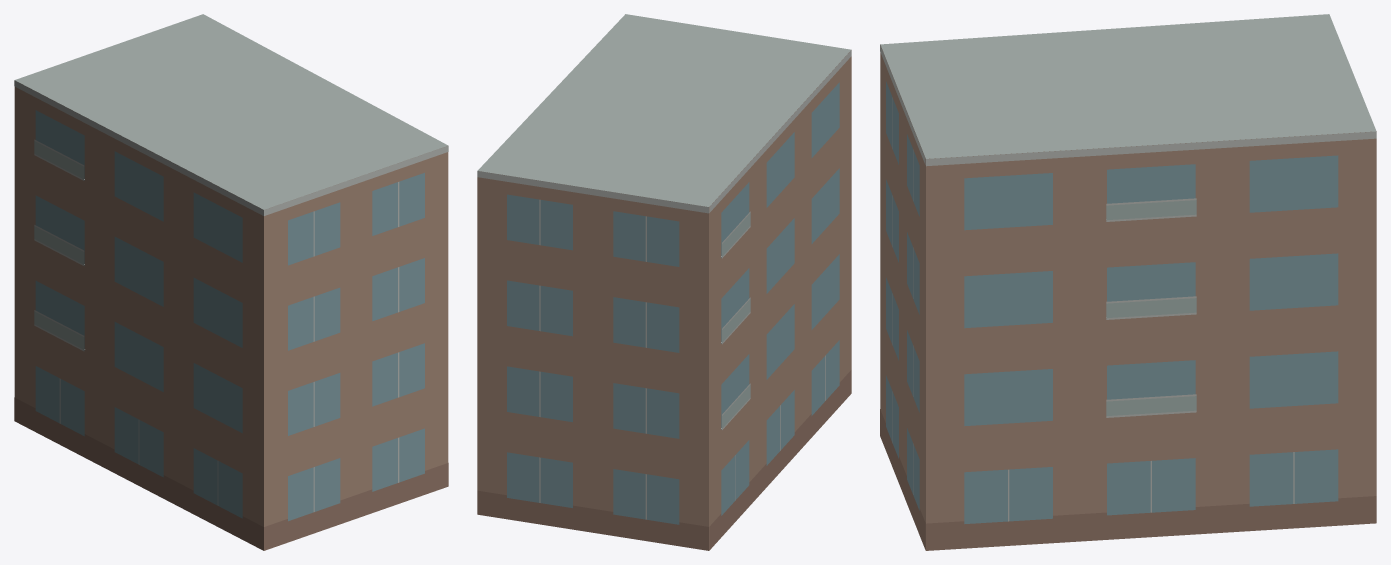
Rendered from survey-upis-32752557.glb.
3 views of the same model, side by side, from view 1: azimuth 30°, elevation 25°; view 2: azimuth 150°, elevation 25°; view 3: azimuth 270°, elevation 25° (orthographic). The views are drawn at different scales.
Visible parts, largest first — view 1: survey-upis-32752557.tmp; view 2: survey-upis-32752557.tmp; view 3: survey-upis-32752557.tmp.
Part boxes in pixels (left/top/right/bottom): survey-upis-32752557.tmp: left=14, top=14, right=448, bottom=550; survey-upis-32752557.tmp: left=477, top=14, right=851, bottom=550; survey-upis-32752557.tmp: left=880, top=14, right=1376, bottom=550.
Bounding box in the file's own units: 10.48 × 13.2 × 15.16.
